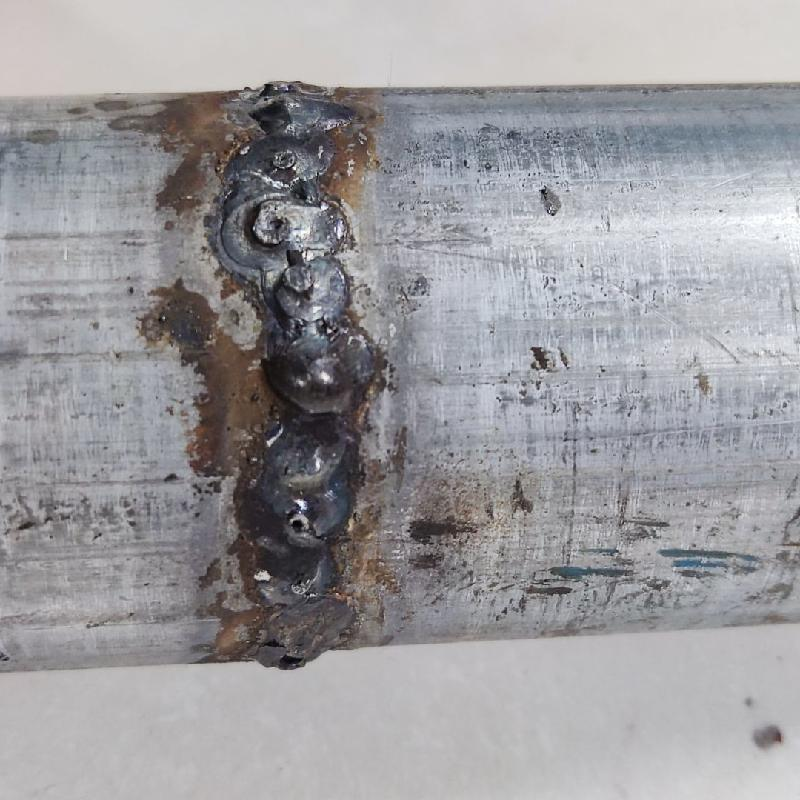Surface_pores: (275, 500, 324, 544), (259, 646, 317, 677), (257, 207, 296, 244)
Weld: (263, 350, 358, 416)
wrong_size: (233, 80, 368, 605)
